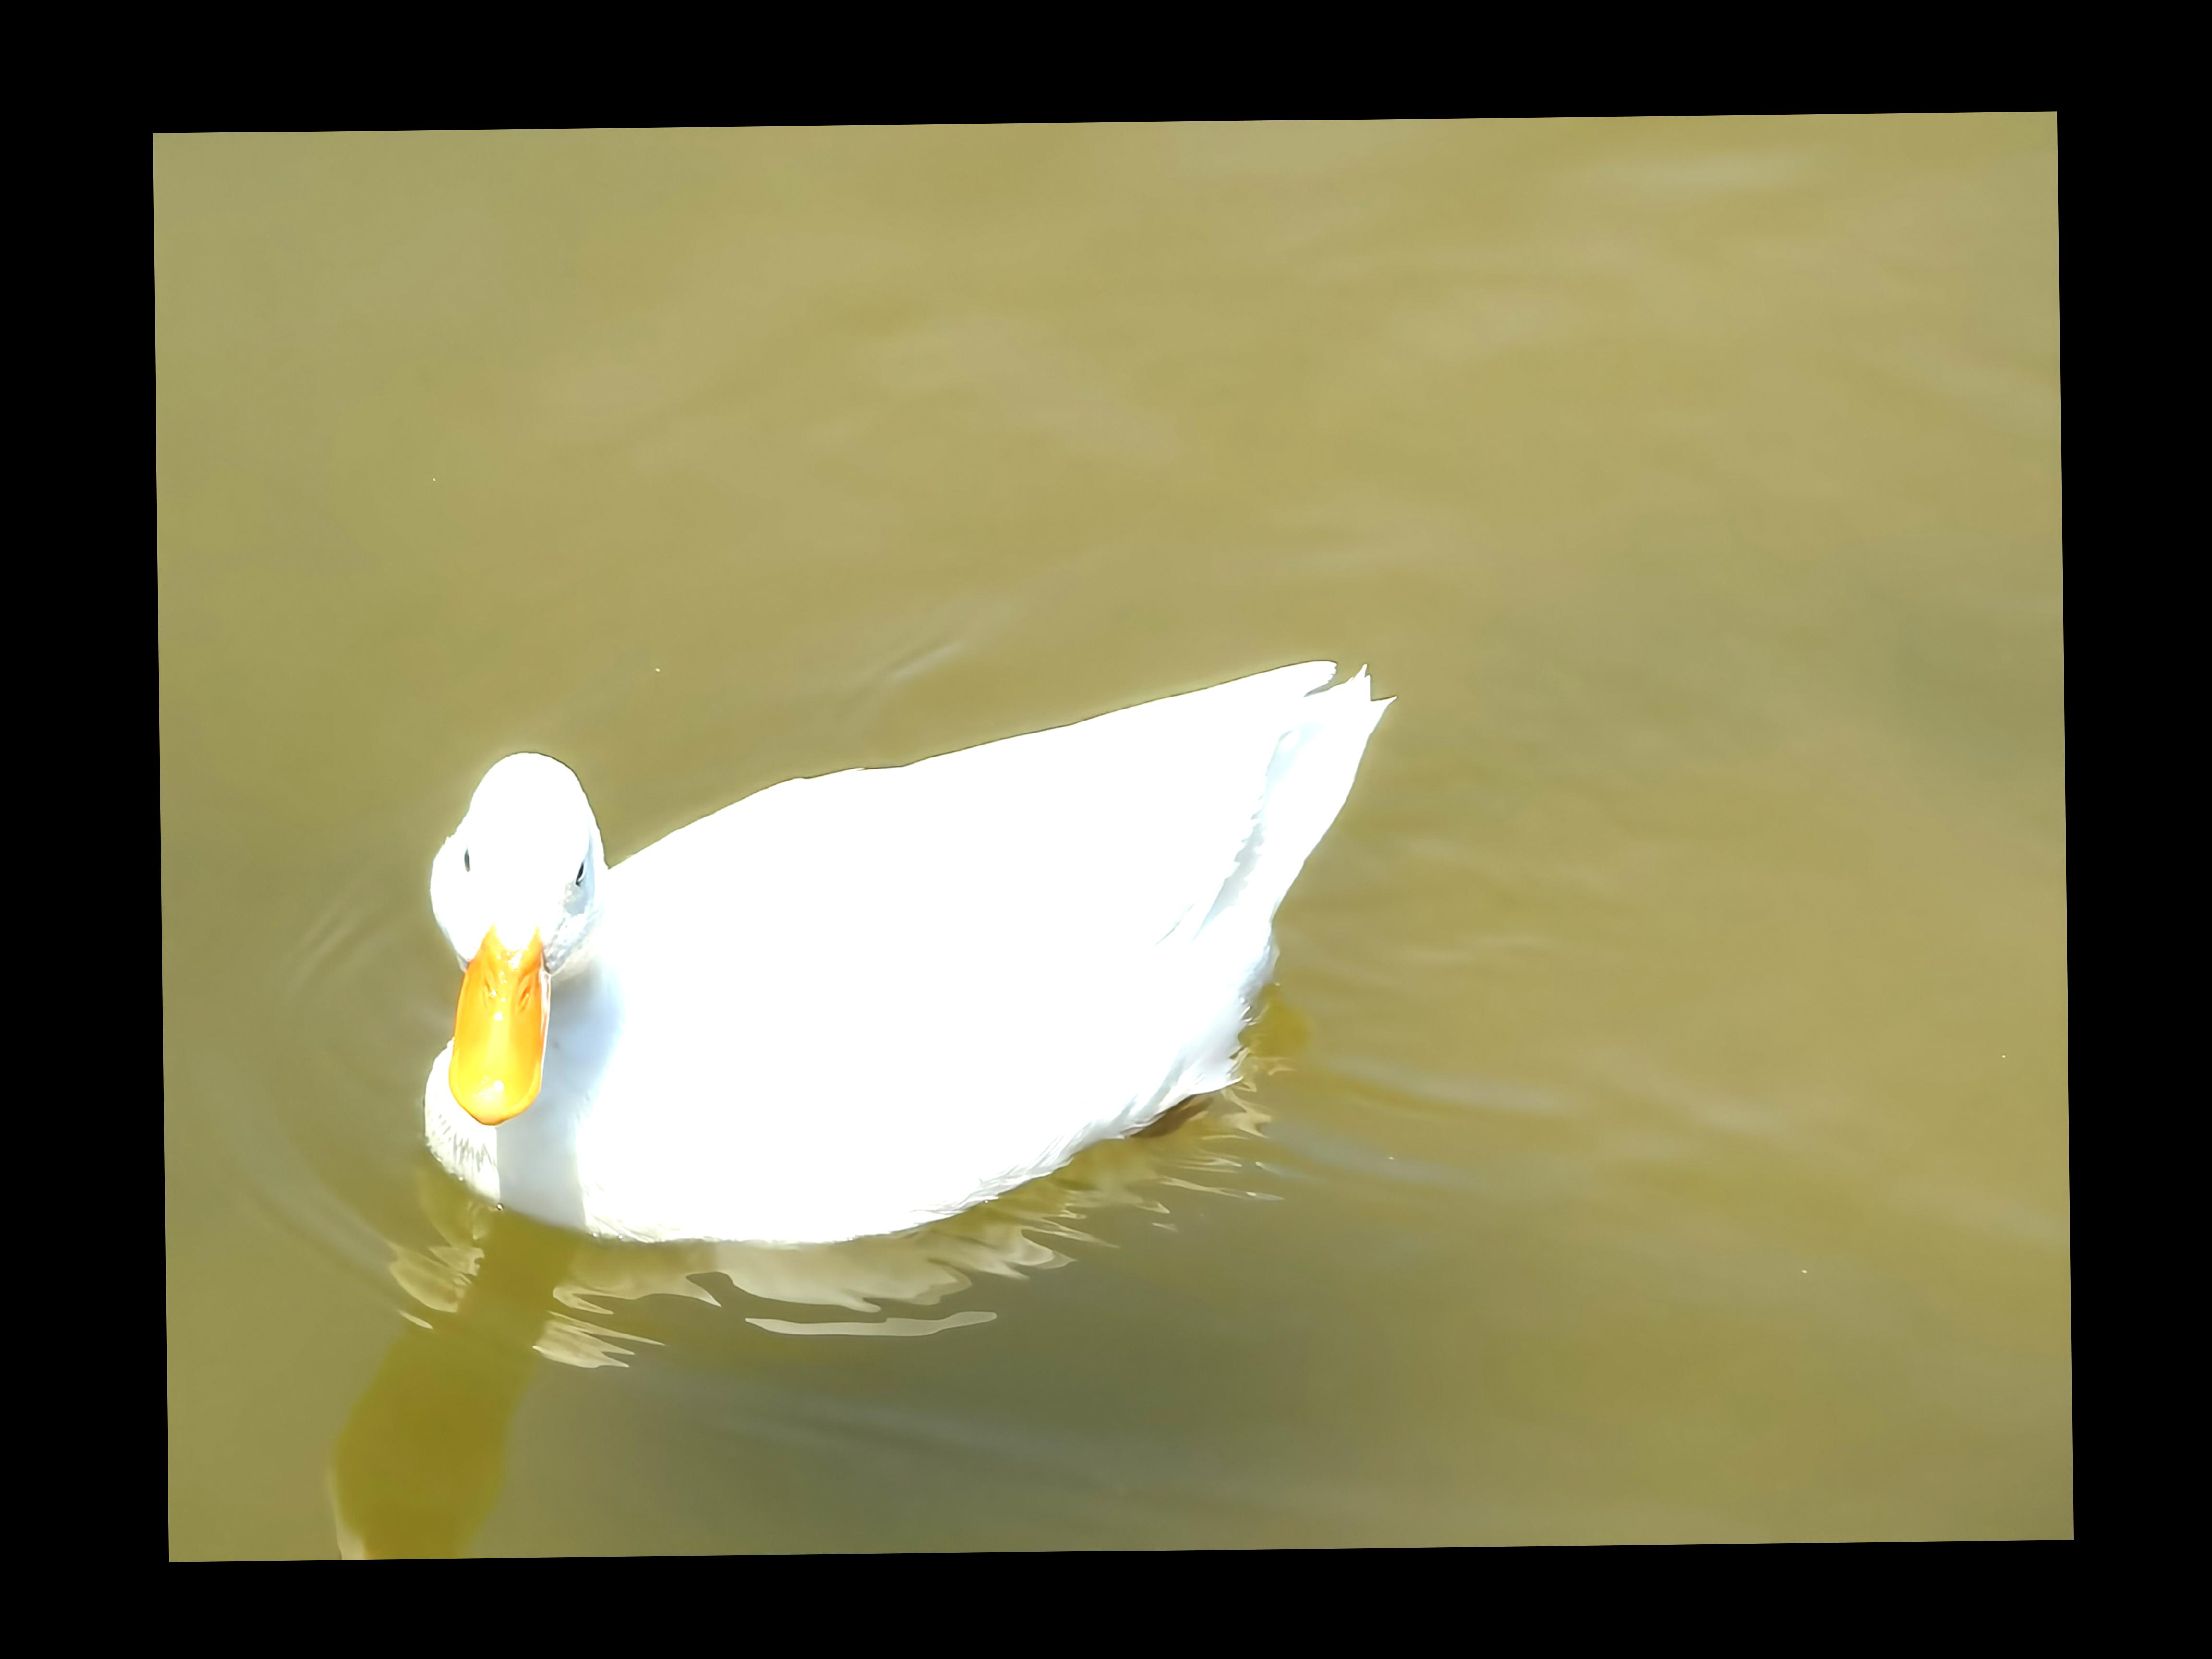duck: (350, 648, 1413, 1309)
